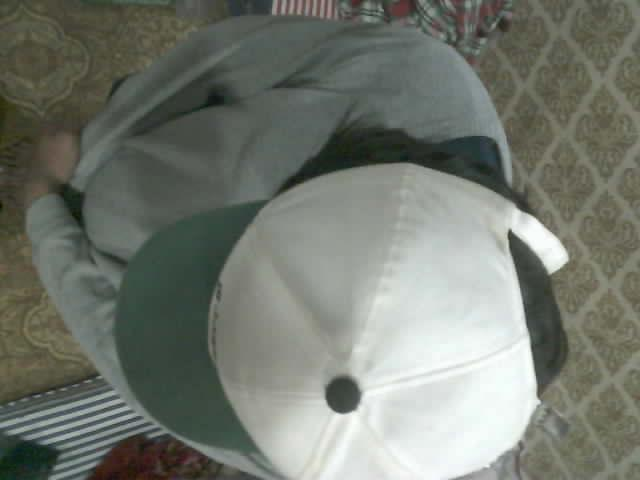cap: (113, 162, 570, 479)
